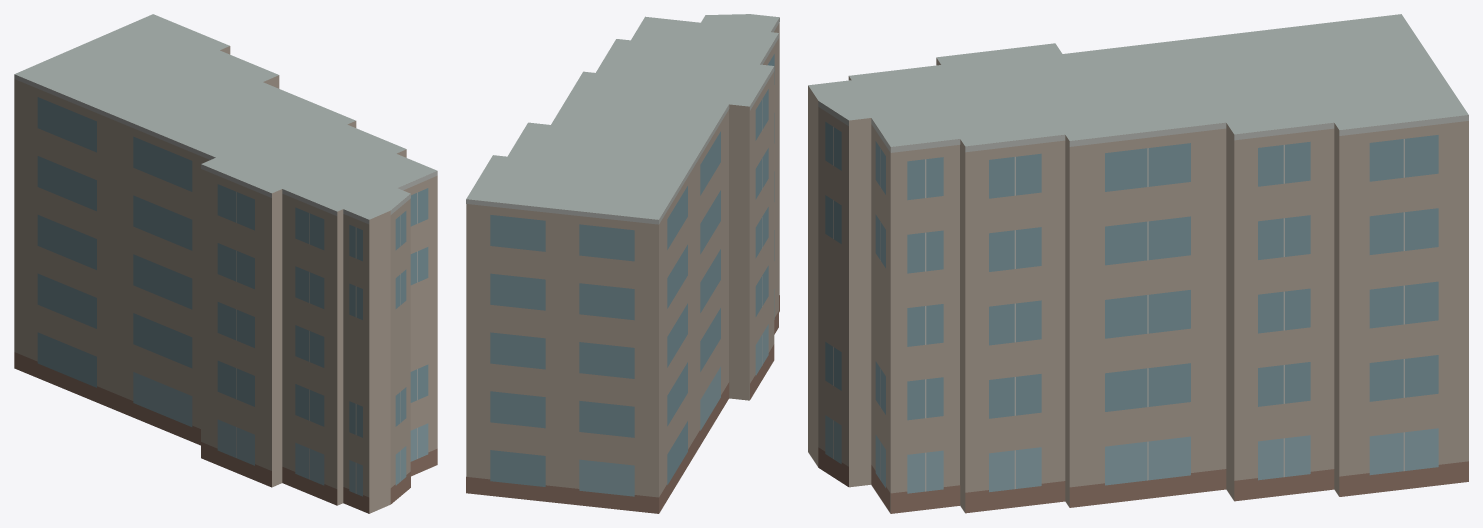
The model's file is survey-upis-32950567.glb.
3 views of the same model, side by side, from view 1: azimuth 30°, elevation 25°; view 2: azimuth 150°, elevation 25°; view 3: azimuth 270°, elevation 25° (orthographic). The views are drawn at different scales.
Visible parts, largest first — view 1: survey-upis-32950567.tmp; view 2: survey-upis-32950567.tmp; view 3: survey-upis-32950567.tmp.
Boxes of the visible parts, x1,y1,x2,y2 form: survey-upis-32950567.tmp: [14, 14, 437, 513]; survey-upis-32950567.tmp: [466, 14, 779, 513]; survey-upis-32950567.tmp: [808, 14, 1468, 513].
Bounding box in the file's own units: 11.83 × 15.2 × 24.82.
